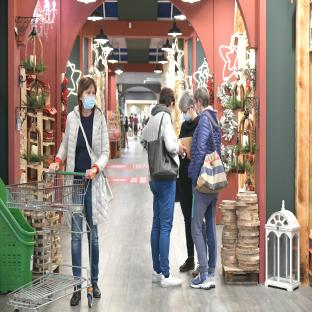Human: (49, 77, 109, 298), (188, 87, 221, 288), (148, 169, 182, 287), (140, 87, 185, 165), (177, 147, 195, 271), (179, 89, 200, 143), (63, 212, 83, 232), (71, 233, 82, 267), (202, 221, 207, 244), (72, 267, 81, 277)
